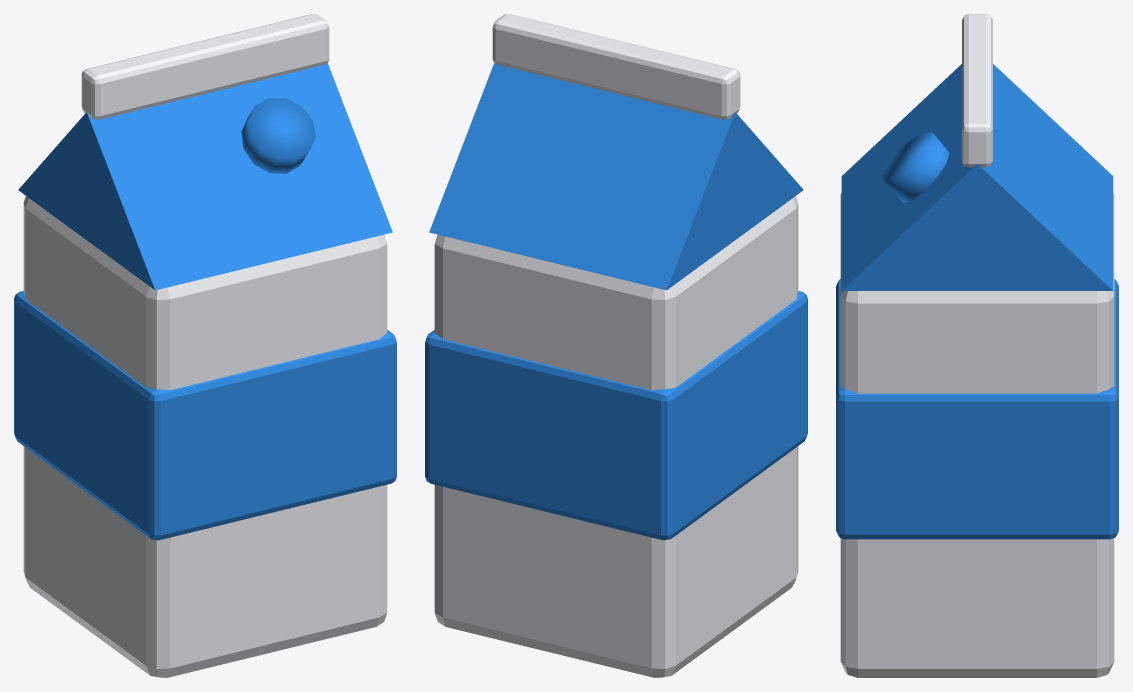
File: milk-carton.glb
3 renders of one model, left to right at view 1: azimuth 30°, elevation 25°; view 2: azimuth 150°, elevation 25°; view 3: azimuth 270°, elevation 25°, orthographic.
Visible parts, largest first — view 1: CartonBody, MilkBand, GableRoof, GableFin, MilkSpout; view 2: CartonBody, MilkBand, GableRoof, GableFin; view 3: CartonBody, MilkBand, GableRoof, GableFin, MilkSpout.
Boxes of the visible parts, x1,y1,x2,y2 form: CartonBody: (23, 196, 387, 677); MilkBand: (14, 291, 396, 540); GableRoof: (18, 63, 392, 290); GableFin: (81, 14, 329, 119); MilkSpout: (241, 98, 315, 173); CartonBody: (434, 196, 798, 677); MilkBand: (425, 291, 807, 540); GableRoof: (429, 63, 803, 290); GableFin: (492, 14, 740, 119); CartonBody: (840, 193, 1114, 677); MilkBand: (836, 279, 1118, 539); GableRoof: (841, 64, 1113, 290); GableFin: (962, 14, 992, 167); MilkSpout: (881, 132, 949, 202).
Bounding box in the file's own units: 0.129 × 0.281 × 0.129.
